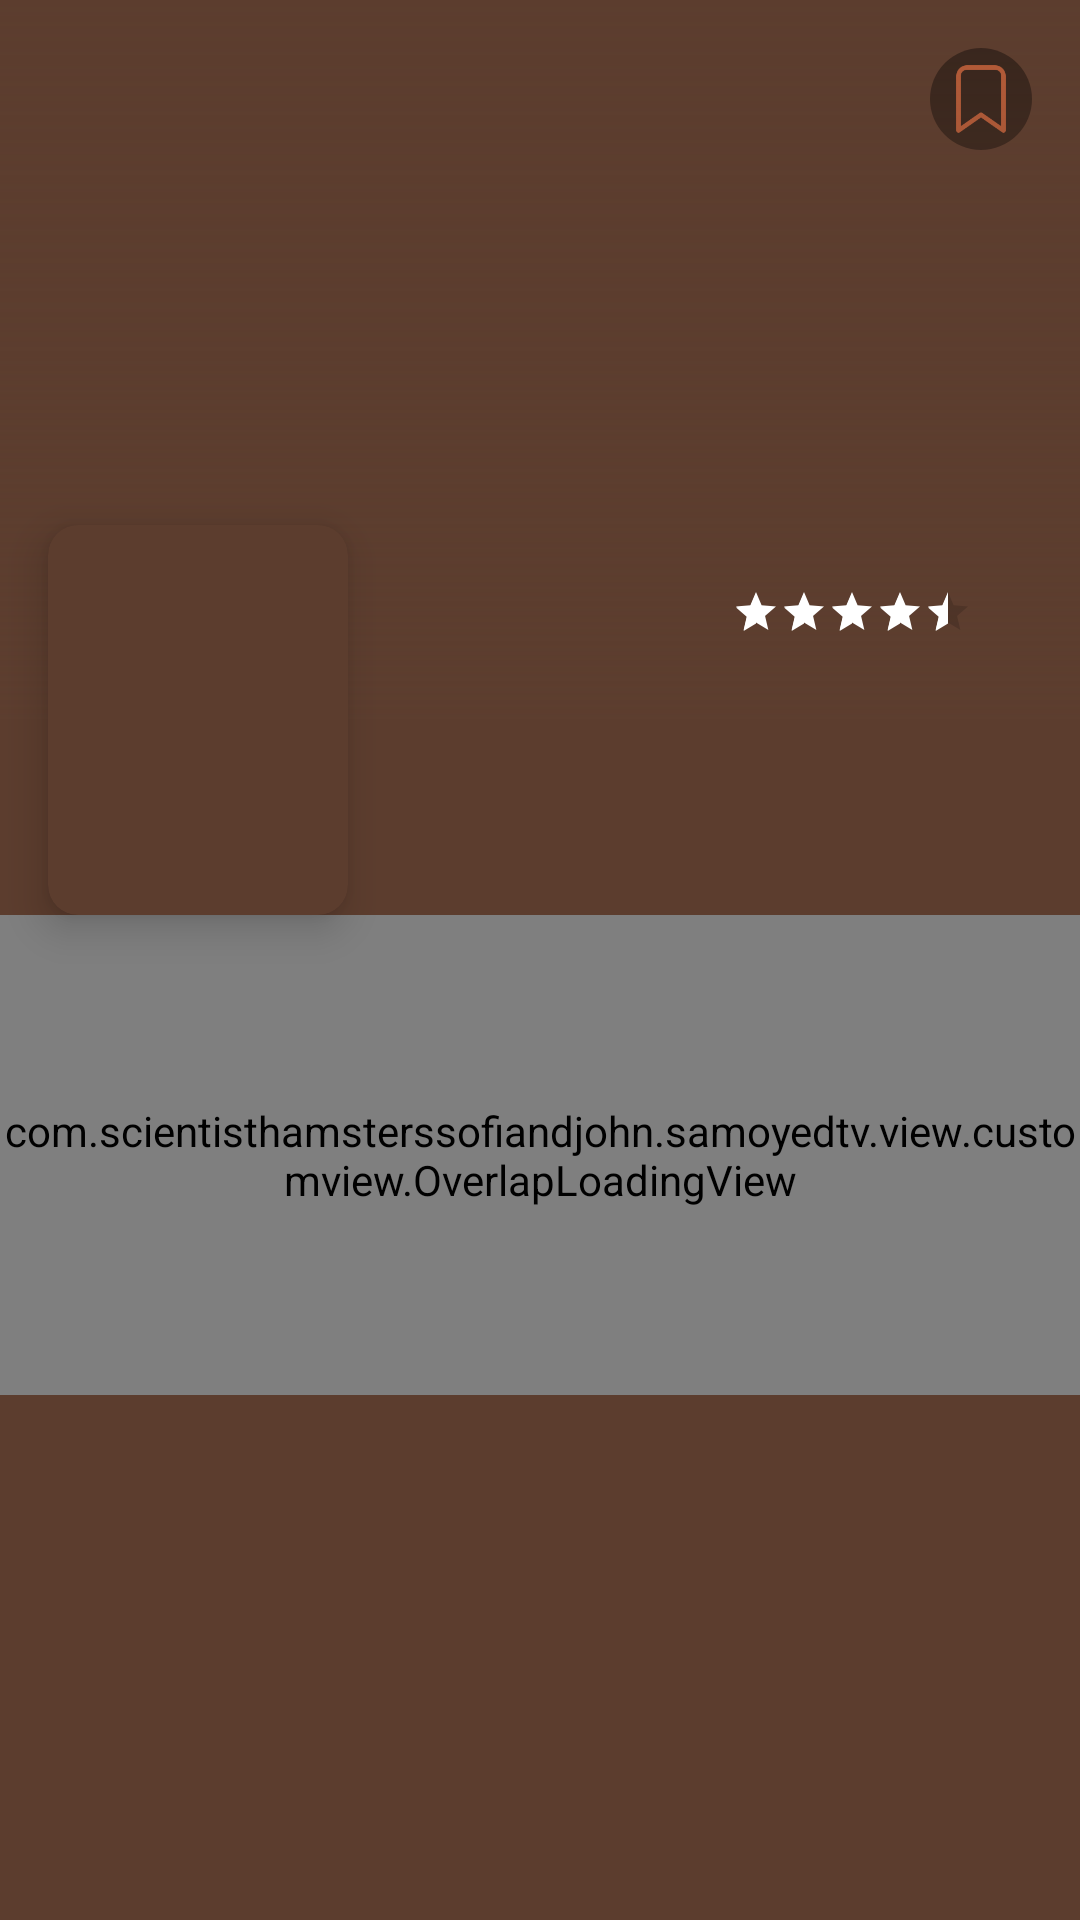

Icon bounding boxes for this 1080*1920 phone screenshot, format (x1, y1, x2, y2):
saved: (930, 48, 1032, 150)
